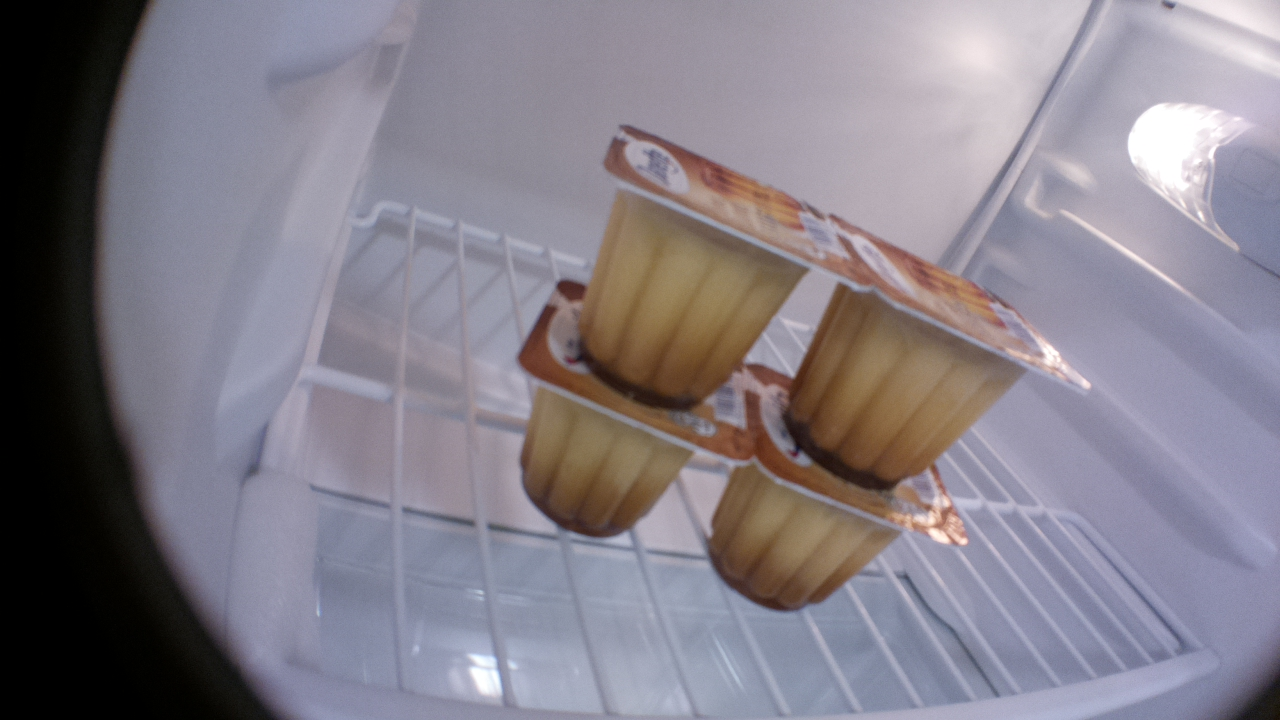caramel: (781, 207, 1092, 491), (579, 125, 877, 410), (706, 359, 970, 616), (516, 273, 755, 537)
